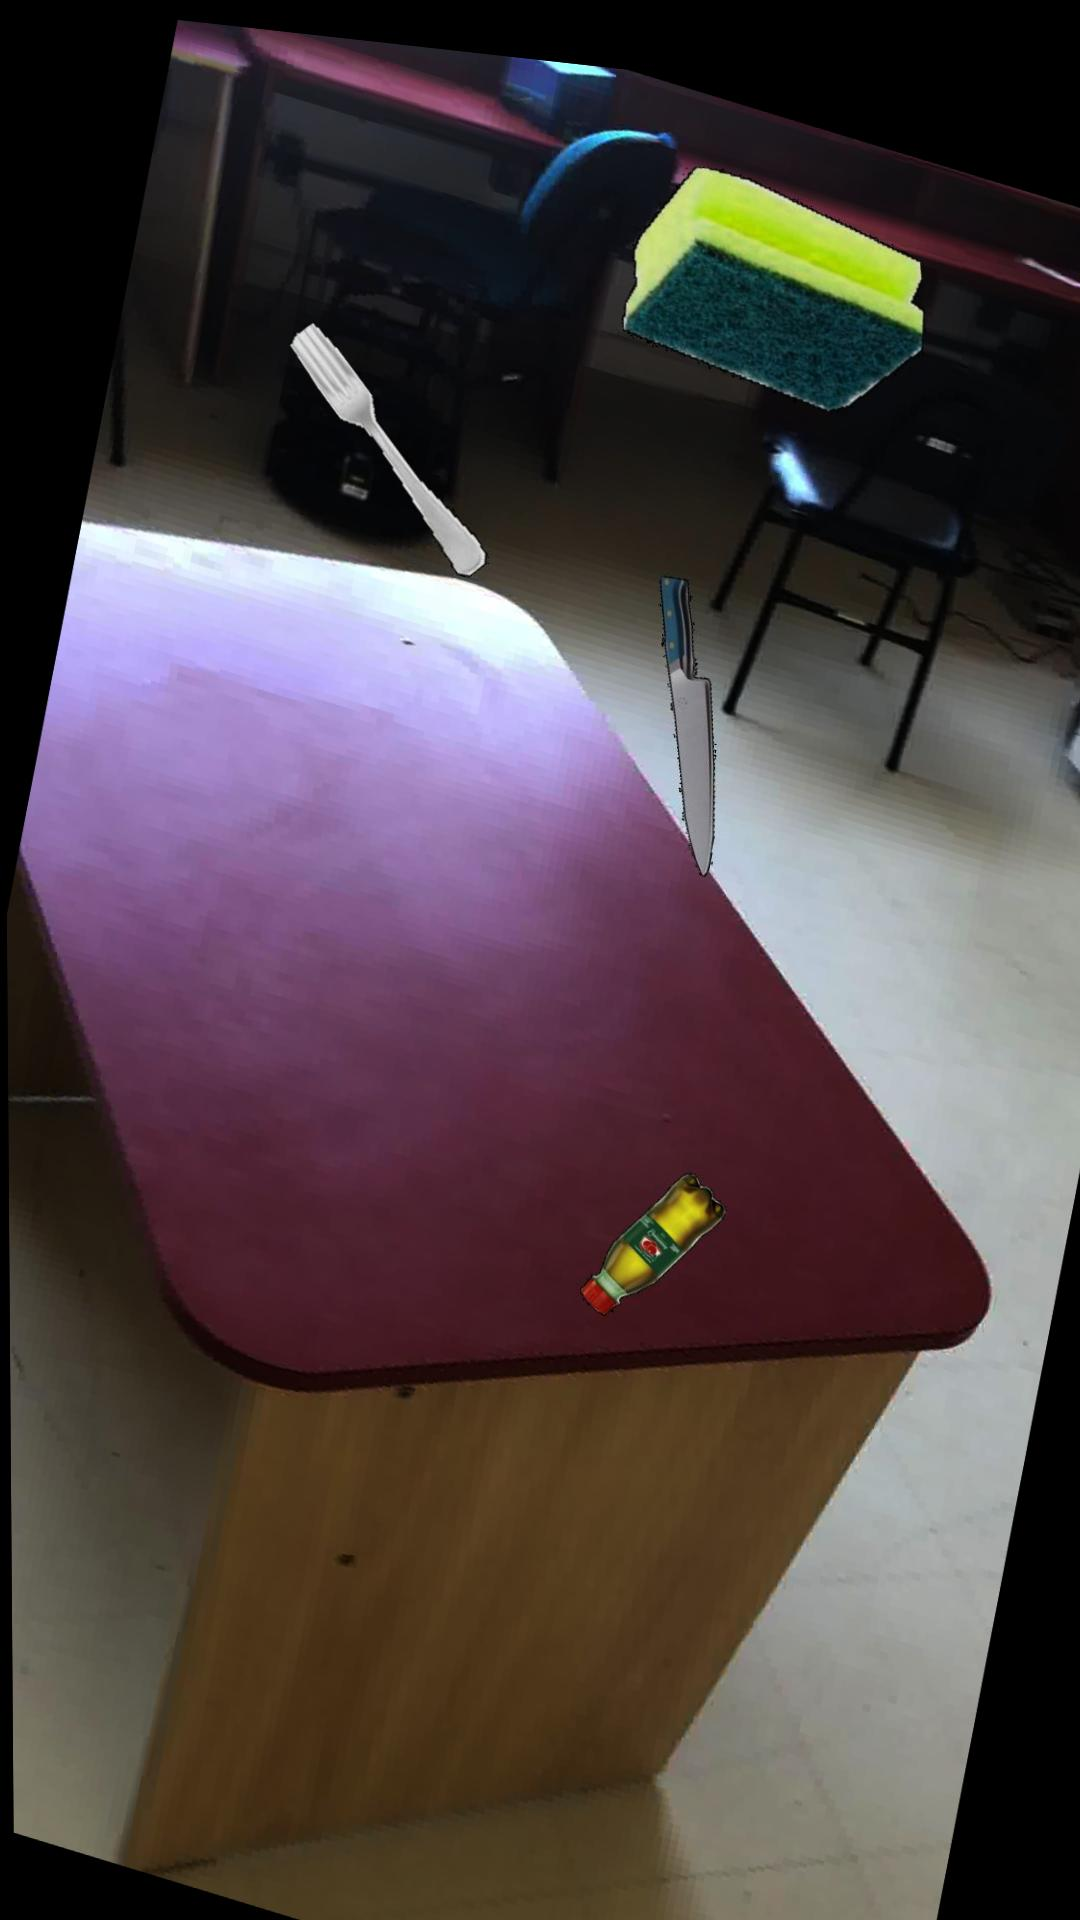fork: (286, 311, 484, 563)
guarana: (576, 1154, 723, 1299)
knife: (657, 558, 713, 857)
sponge: (620, 148, 922, 390)
